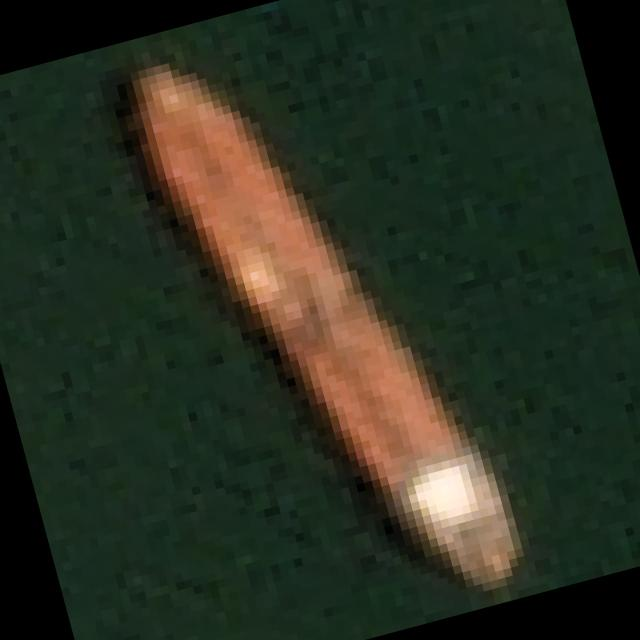ship: (109, 0, 588, 640)
